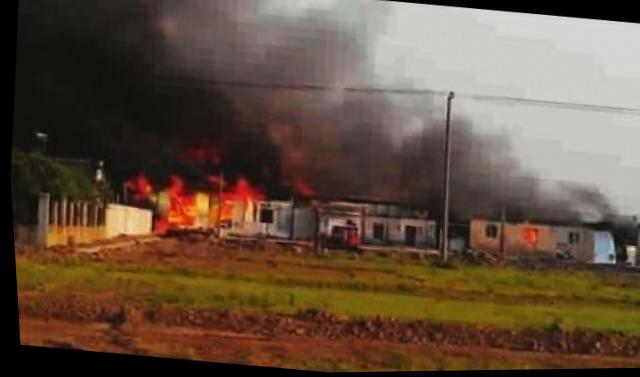fire: (159, 174, 193, 227), (222, 178, 258, 199), (124, 172, 146, 195), (214, 198, 230, 220), (152, 216, 165, 231)
